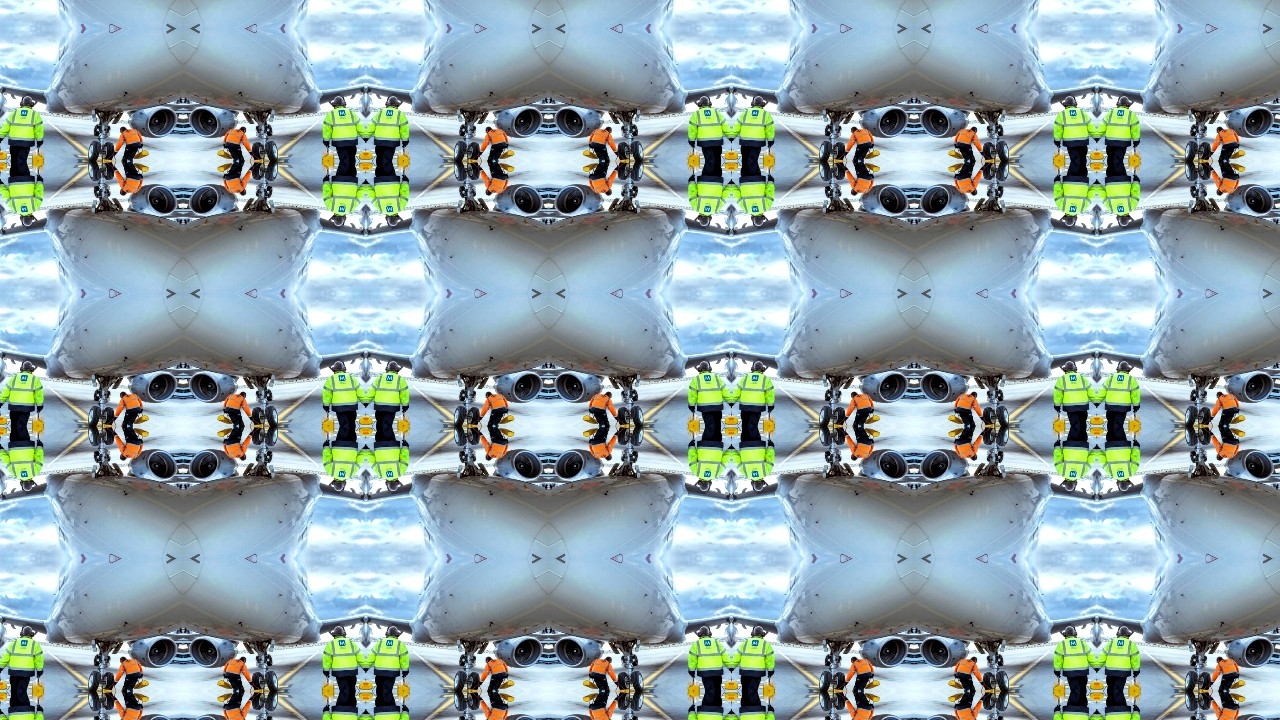chock: (131, 148, 150, 161), (215, 148, 234, 161), (497, 148, 516, 161), (581, 148, 600, 161), (863, 148, 882, 161), (947, 148, 966, 161), (1229, 148, 1248, 161), (131, 426, 150, 439), (215, 426, 234, 439), (497, 426, 516, 439), (581, 426, 600, 439), (863, 426, 882, 439), (947, 426, 966, 439), (1229, 426, 1248, 439), (131, 679, 150, 692), (215, 679, 234, 692), (497, 679, 516, 692), (581, 679, 600, 692), (863, 679, 882, 692), (947, 679, 966, 692), (1229, 679, 1248, 692), (131, 161, 150, 173), (215, 161, 234, 173), (497, 161, 516, 173), (581, 161, 600, 173), (863, 161, 882, 173), (947, 161, 966, 173), (1229, 161, 1248, 173), (131, 414, 150, 426), (215, 414, 234, 426), (497, 414, 516, 426), (581, 414, 600, 426), (863, 414, 882, 426), (947, 414, 966, 426), (1229, 414, 1248, 426), (131, 692, 150, 704), (215, 692, 234, 704), (497, 692, 516, 704), (581, 692, 600, 704), (863, 692, 882, 704), (947, 692, 966, 704), (1229, 692, 1248, 704), (30, 147, 46, 161), (319, 147, 335, 161), (396, 147, 412, 161), (685, 147, 701, 161), (762, 147, 778, 161), (1051, 147, 1067, 161), (1128, 147, 1144, 161), (30, 161, 46, 175), (319, 161, 335, 175), (396, 161, 412, 175), (685, 161, 701, 175), (762, 161, 778, 175), (1051, 161, 1067, 175), (1128, 161, 1144, 175), (30, 412, 46, 426), (319, 412, 335, 426), (396, 412, 412, 426), (685, 412, 701, 426), (762, 412, 778, 426), (1051, 412, 1067, 426), (1128, 412, 1144, 426), (30, 426, 46, 440), (319, 426, 335, 440), (396, 426, 412, 440), (685, 426, 701, 440), (762, 426, 778, 440), (1051, 426, 1067, 440), (1128, 426, 1144, 440), (30, 678, 46, 692), (319, 678, 335, 692), (396, 678, 412, 692), (685, 678, 701, 692), (762, 678, 778, 692), (1051, 678, 1067, 692), (1128, 678, 1144, 692), (30, 692, 46, 706), (319, 692, 335, 706), (396, 692, 412, 706), (685, 692, 701, 706), (762, 692, 778, 706), (1051, 692, 1067, 706), (1128, 692, 1144, 706), (723, 147, 732, 161), (723, 161, 732, 175), (723, 412, 732, 426), (723, 426, 732, 440), (723, 678, 732, 692), (723, 692, 732, 706), (0, 147, 8, 161), (357, 147, 365, 161), (366, 147, 374, 161), (732, 147, 740, 161), (1089, 147, 1097, 161), (1098, 147, 1106, 161), (0, 161, 8, 175), (357, 161, 365, 175), (366, 161, 374, 175), (732, 161, 740, 175), (1089, 161, 1097, 175), (1098, 161, 1106, 175), (0, 412, 8, 426), (357, 412, 365, 426), (366, 412, 374, 426), (732, 412, 740, 426), (1089, 412, 1097, 426), (1098, 412, 1106, 426), (0, 426, 8, 440), (357, 426, 365, 440), (366, 426, 374, 440), (732, 426, 740, 440), (1089, 426, 1097, 440), (1098, 426, 1106, 440), (0, 678, 8, 692), (357, 678, 365, 692), (366, 678, 374, 692), (732, 678, 740, 692), (1089, 678, 1097, 692), (1098, 678, 1106, 692), (0, 692, 8, 706), (357, 692, 365, 706), (366, 692, 374, 706), (732, 692, 740, 706), (1089, 692, 1097, 706), (1098, 692, 1106, 706)
wheel: (86, 139, 101, 161), (264, 139, 279, 161), (452, 139, 467, 161), (630, 139, 645, 161), (818, 139, 833, 161), (996, 139, 1011, 161), (1184, 139, 1199, 161), (86, 426, 101, 448), (264, 426, 279, 448), (452, 426, 467, 448), (630, 426, 645, 448), (818, 426, 833, 448), (996, 426, 1011, 448), (1184, 426, 1199, 448), (86, 670, 101, 692), (264, 670, 279, 692), (452, 670, 467, 692), (630, 670, 645, 692), (818, 670, 833, 692), (996, 670, 1011, 692), (1184, 670, 1199, 692), (99, 141, 115, 161), (250, 141, 266, 161), (465, 141, 481, 161), (616, 141, 632, 161), (831, 141, 847, 161), (982, 141, 998, 161), (1197, 141, 1213, 161), (99, 161, 115, 181), (250, 161, 266, 181), (465, 161, 481, 181), (616, 161, 632, 181), (831, 161, 847, 181), (982, 161, 998, 181), (1197, 161, 1213, 181), (99, 406, 115, 426), (250, 406, 266, 426), (465, 406, 481, 426), (616, 406, 632, 426), (831, 406, 847, 426), (982, 406, 998, 426), (1197, 406, 1213, 426), (99, 426, 115, 446), (250, 426, 266, 446), (465, 426, 481, 446), (616, 426, 632, 446), (831, 426, 847, 446), (982, 426, 998, 446), (1197, 426, 1213, 446), (99, 672, 115, 692), (250, 672, 266, 692), (465, 672, 481, 692), (616, 672, 632, 692), (831, 672, 847, 692), (982, 672, 998, 692), (1197, 672, 1213, 692), (99, 692, 115, 712), (250, 692, 266, 712), (465, 692, 481, 712), (616, 692, 632, 712), (831, 692, 847, 712), (982, 692, 998, 712), (1197, 692, 1213, 712), (86, 161, 101, 182), (264, 161, 279, 182), (452, 161, 467, 182), (630, 161, 645, 182), (818, 161, 833, 182), (996, 161, 1011, 182), (1184, 161, 1199, 182), (86, 405, 101, 426), (264, 405, 279, 426), (452, 405, 467, 426), (630, 405, 645, 426), (818, 405, 833, 426), (996, 405, 1011, 426), (1184, 405, 1199, 426), (86, 692, 101, 713), (264, 692, 279, 713), (452, 692, 467, 713), (630, 692, 645, 713), (818, 692, 833, 713), (996, 692, 1011, 713), (1184, 692, 1199, 713), (92, 123, 101, 135), (264, 123, 273, 135), (458, 123, 467, 135), (630, 123, 639, 135), (824, 123, 833, 135), (996, 123, 1005, 135), (1190, 123, 1199, 135), (92, 186, 101, 198), (264, 186, 273, 198), (458, 186, 467, 198), (630, 186, 639, 198), (824, 186, 833, 198), (996, 186, 1005, 198), (1190, 186, 1199, 198), (92, 389, 101, 401), (264, 389, 273, 401), (458, 389, 467, 401), (630, 389, 639, 401), (824, 389, 833, 401), (996, 389, 1005, 401), (1190, 389, 1199, 401), (92, 452, 101, 464), (264, 452, 273, 464), (458, 452, 467, 464), (630, 452, 639, 464), (824, 452, 833, 464), (996, 452, 1005, 464), (1190, 452, 1199, 464), (92, 654, 101, 666), (264, 654, 273, 666), (458, 654, 467, 666), (630, 654, 639, 666), (824, 654, 833, 666), (996, 654, 1005, 666), (1190, 654, 1199, 666), (105, 125, 110, 132), (255, 125, 260, 132), (471, 125, 476, 132), (621, 125, 626, 132), (837, 125, 842, 132), (987, 125, 992, 132), (1203, 125, 1208, 132), (105, 190, 110, 197), (255, 190, 260, 197), (471, 190, 476, 197), (621, 190, 626, 197), (837, 190, 842, 197), (987, 190, 992, 197), (1203, 190, 1208, 197), (105, 390, 110, 397), (255, 390, 260, 397), (471, 390, 476, 397), (621, 390, 626, 397), (837, 390, 842, 397), (987, 390, 992, 397), (1203, 390, 1208, 397), (105, 455, 110, 462), (255, 455, 260, 462), (471, 455, 476, 462), (621, 455, 626, 462), (837, 455, 842, 462), (987, 455, 992, 462), (1203, 455, 1208, 462), (105, 656, 110, 663), (255, 656, 260, 663), (471, 656, 476, 663), (621, 656, 626, 663), (837, 656, 842, 663), (987, 656, 992, 663), (1203, 656, 1208, 663), (92, 717, 101, 720), (264, 717, 273, 720), (458, 717, 467, 720), (630, 717, 639, 720), (824, 717, 833, 720), (996, 717, 1005, 720), (1190, 717, 1199, 720)
